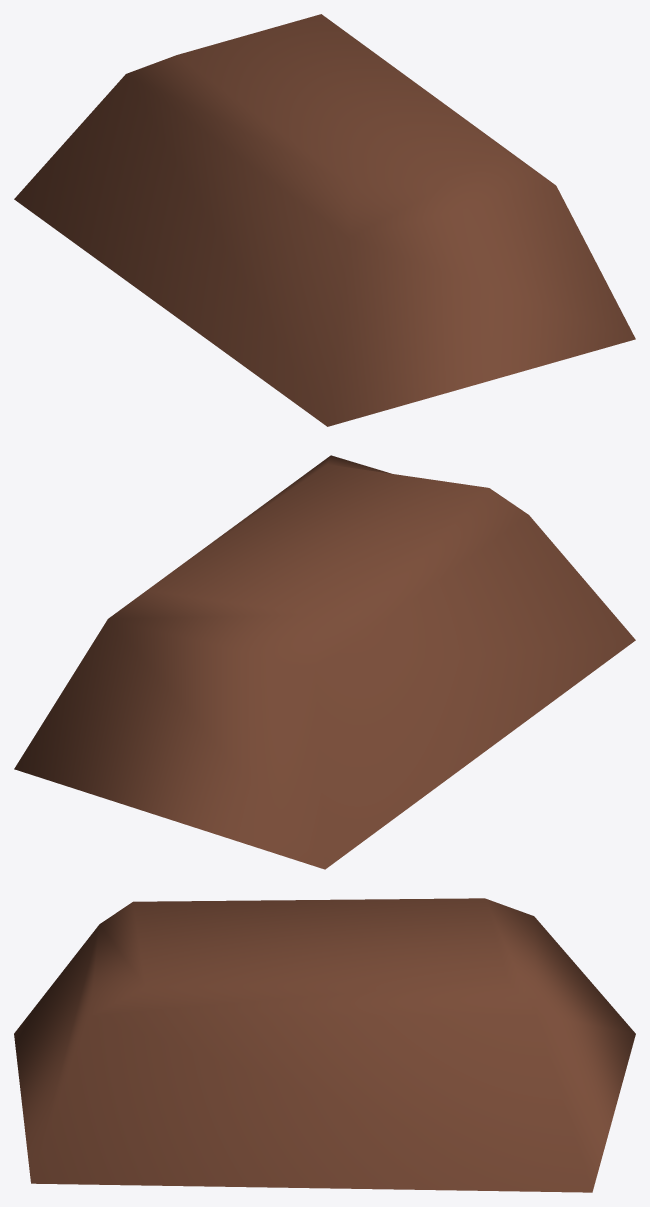
Rendered from grave.fbx.
3 views of the same model, one above another, from view 1: azimuth 30°, elevation 25°; view 2: azimuth 150°, elevation 25°; view 3: azimuth 270°, elevation 25° (orthographic).
Parts seen in each view (by area): view 1: Cube.003; view 2: Cube.003; view 3: Cube.003.
Boxes of the visible parts, x1,y1,x2,y2 form: Cube.003: (14, 14, 635, 426); Cube.003: (14, 455, 635, 869); Cube.003: (14, 898, 635, 1192).
Size of the model in its own units: 234 by 120 by 380.
